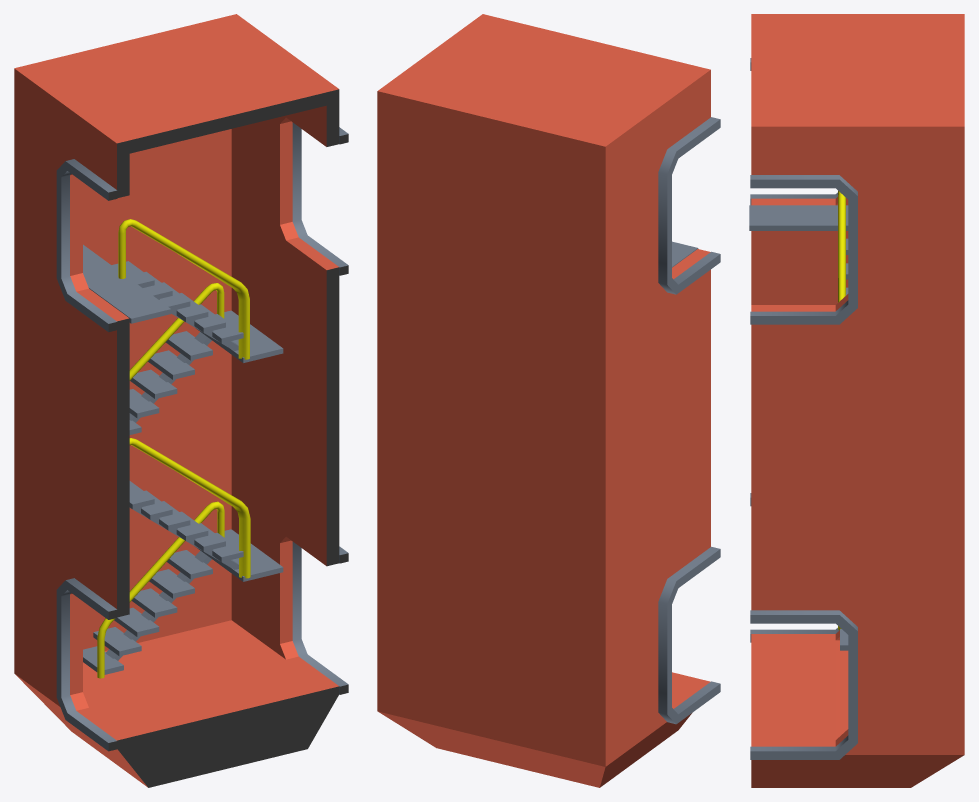
Rendered from Ladder_03.fbx.
3 views of the same model, side by side, from view 1: azimuth 30°, elevation 25°; view 2: azimuth 150°, elevation 25°; view 3: azimuth 270°, elevation 25° (orthographic). The views are drawn at different scales.
Parts seen in each view (by area): view 1: Ladder_03; view 2: Ladder_03; view 3: Ladder_03.
Part boxes in pixels (x1=…): Ladder_03: x1=14, y1=14, x2=348, y2=787; Ladder_03: x1=377, y1=14, x2=720, y2=787; Ladder_03: x1=749, y1=14, x2=964, y2=787.
Size of the model in its own units: 5.4 by 14 by 4.04.
